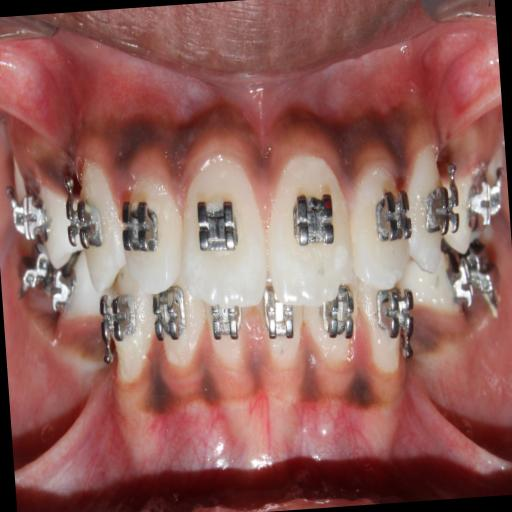correct_brace: (190, 192, 240, 269), (286, 186, 338, 247), (422, 178, 464, 240), (372, 184, 414, 244), (121, 195, 162, 251), (64, 195, 103, 252)
incorrect_brace: (346, 148, 414, 293), (118, 168, 186, 298)
